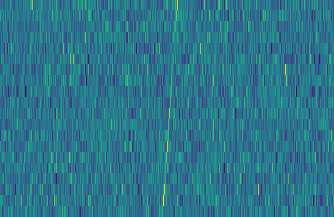signal: (158, 0, 181, 217)
